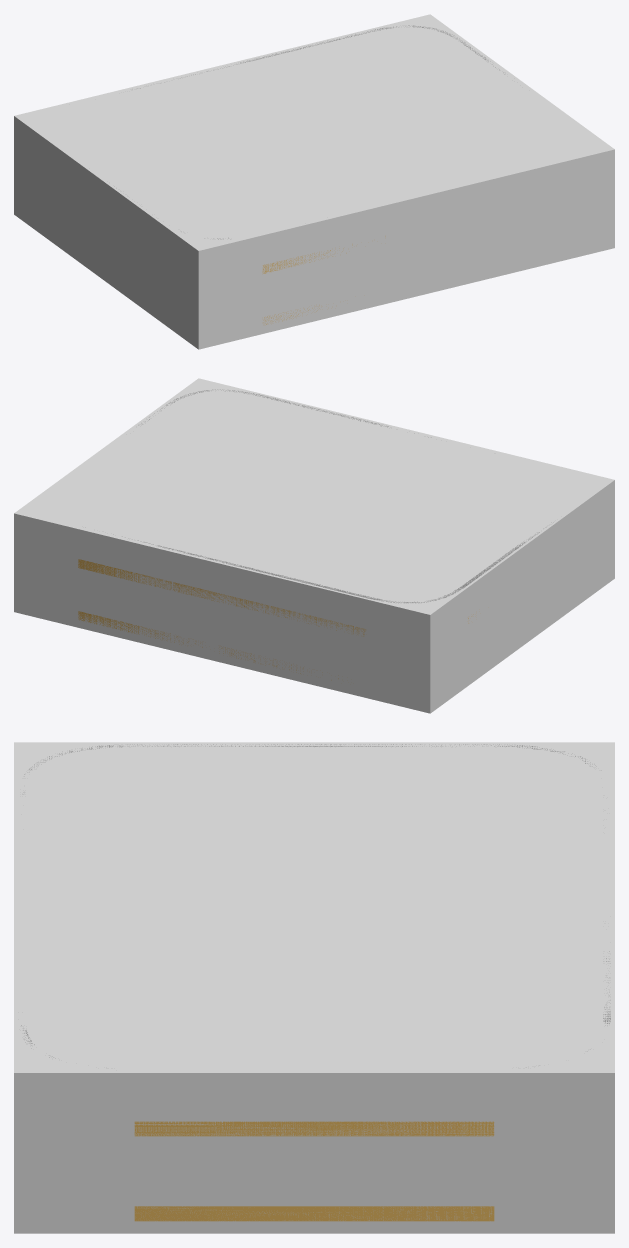
The model's file is UpLu_Stone_Platform_01.gltf.
3 views of the same model, one above another, from view 1: azimuth 30°, elevation 25°; view 2: azimuth 150°, elevation 25°; view 3: azimuth 270°, elevation 25° (orthographic). The views are drawn at different scales.
Parts seen in each view (by area): view 1: UpLu_Stone_Platform_01_bcol, UpLu_Stone_Platform_01.001; view 2: UpLu_Stone_Platform_01_bcol, UpLu_Stone_Platform_01.001; view 3: UpLu_Stone_Platform_01_bcol, UpLu_Stone_Platform_01.001.
Part boxes in pixels (x1=…): UpLu_Stone_Platform_01_bcol: x1=14, y1=14, x2=614, y2=349; UpLu_Stone_Platform_01.001: x1=114, y1=25, x2=504, y2=324; UpLu_Stone_Platform_01_bcol: x1=14, y1=378, x2=614, y2=713; UpLu_Stone_Platform_01.001: x1=78, y1=389, x2=553, y2=680; UpLu_Stone_Platform_01_bcol: x1=14, y1=742, x2=614, y2=1233; UpLu_Stone_Platform_01.001: x1=21, y1=744, x2=610, y2=1221.
Bounding box in the file's own units: 3.31 × 0.7501 × 2.54.
3 materials, 1 textured.
